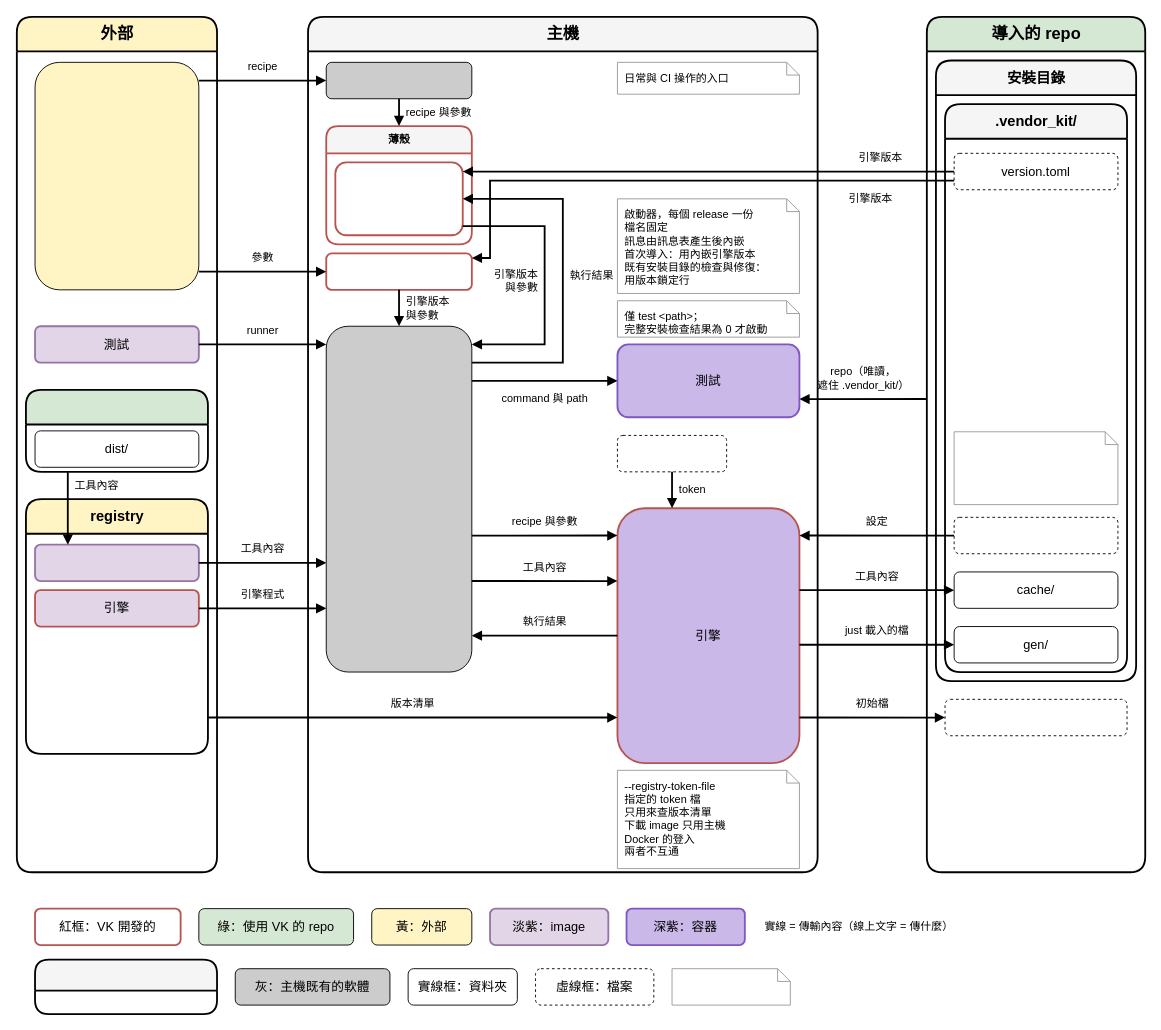
The diagram is 1161 pixels wide and 1030 high, and some of its shapes have lost their labels. The centre of each missing label's shape, as x and y in pixels:
"bootstrap.sh" belongs at point (398, 271).
"config.toml" belongs at point (1035, 535).
"config.toml 的設定： lock_timeout_seconds lock_enabled [test] image、command" belongs at point (1035, 468).
"docker" belongs at point (398, 498).
"just" belongs at point (398, 80).
"repo 檔" belongs at point (1035, 717).
"token 檔" belongs at point (672, 453).
"使用者" belongs at point (116, 175).
"便條：補充說明" belongs at point (730, 986).
"出貨的 repo" belongs at point (116, 430).
"啟動器（sh 片段）" belongs at point (398, 198).
"工具" belongs at point (116, 562).
"淺灰：分組（無狀態意義）" belongs at point (125, 986).
